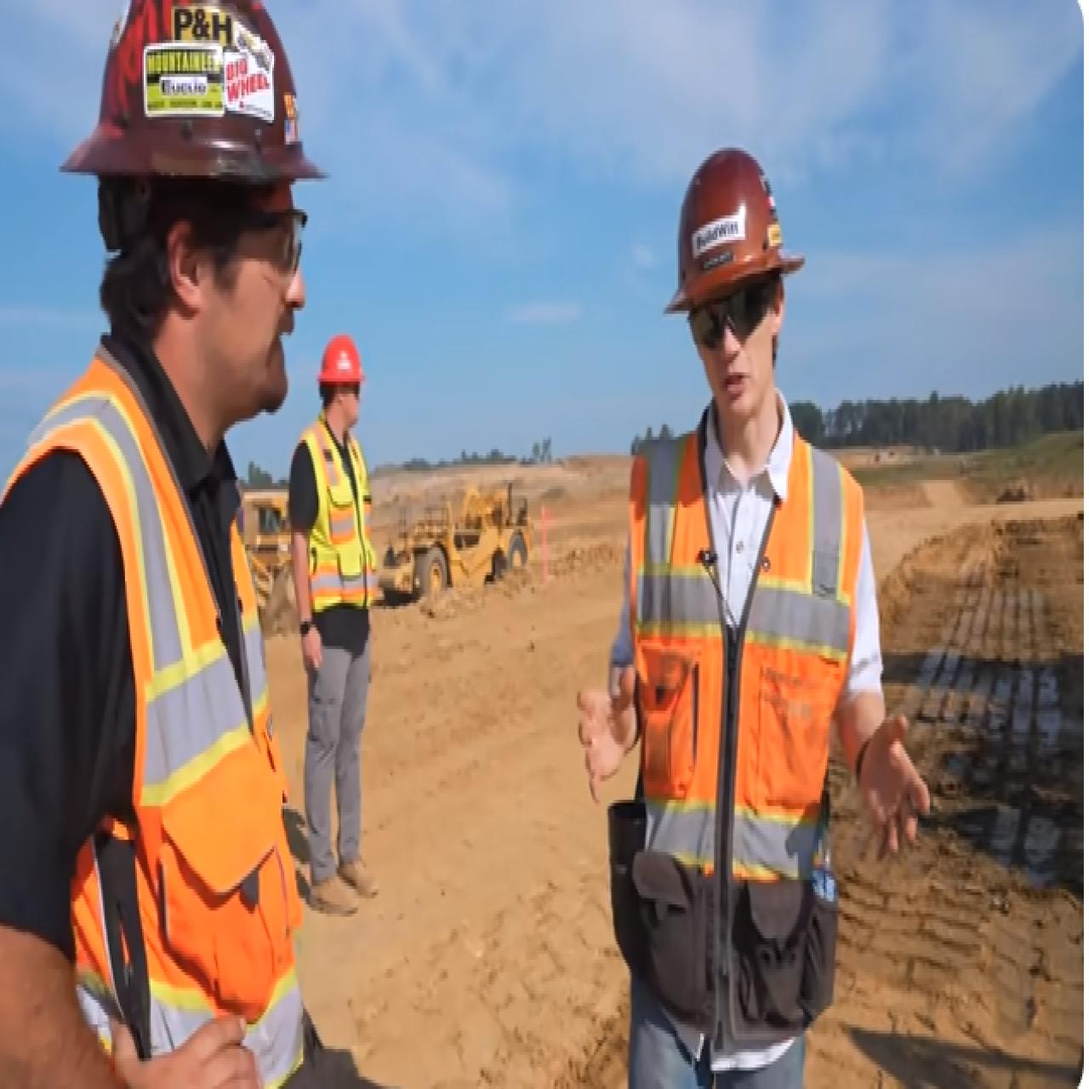Person: (0, 0, 355, 1086), (599, 123, 910, 1089), (288, 308, 392, 889)
Safety_Vest: (4, 346, 294, 1089), (628, 420, 858, 942), (302, 429, 379, 620)
